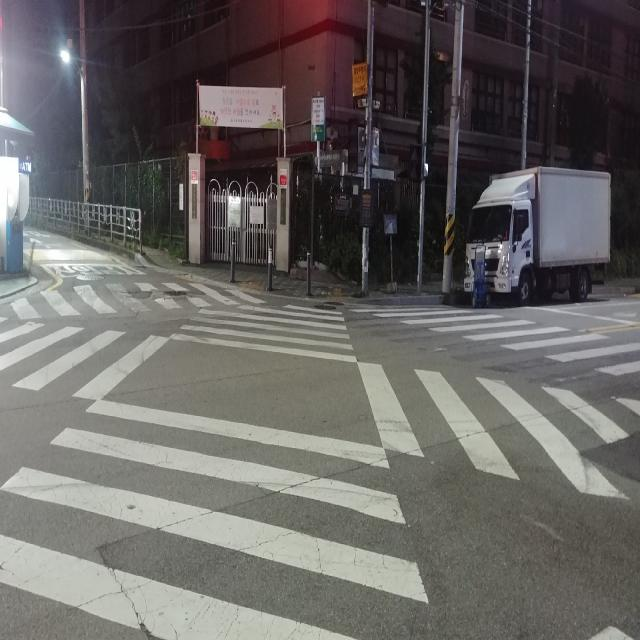횡단보도: (0, 303, 432, 640), (354, 307, 638, 497), (50, 279, 227, 310)
